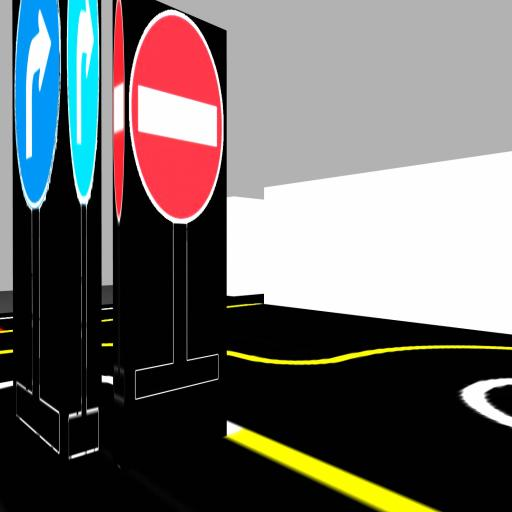Do Not Enter: (129, 11, 223, 223), (113, 0, 125, 223)
Right Turn: (14, 0, 60, 209), (67, 0, 99, 204)
